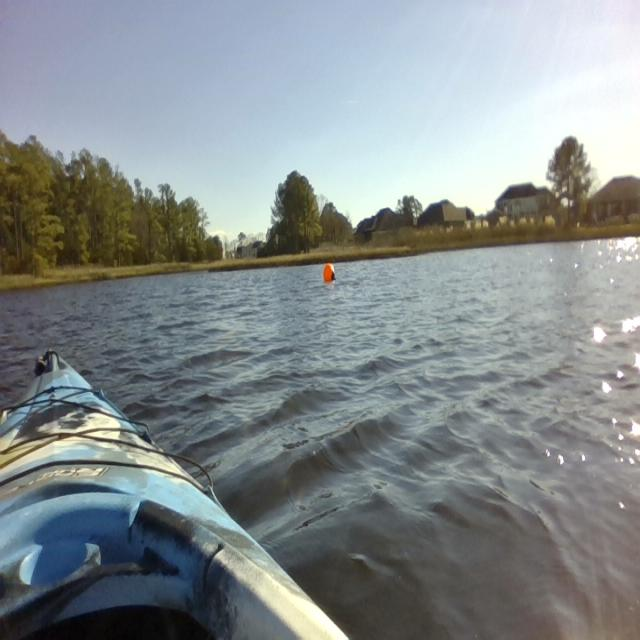Buoy: (310, 247, 353, 298)
